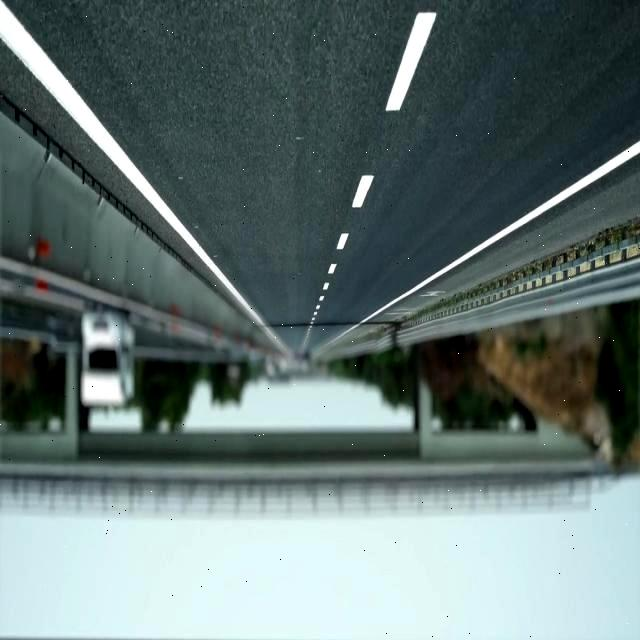lane: (1, 1, 288, 352), (330, 141, 640, 342), (385, 11, 435, 111), (352, 174, 374, 208), (338, 233, 349, 250)
road: (4, 1, 639, 352), (0, 43, 226, 293)
